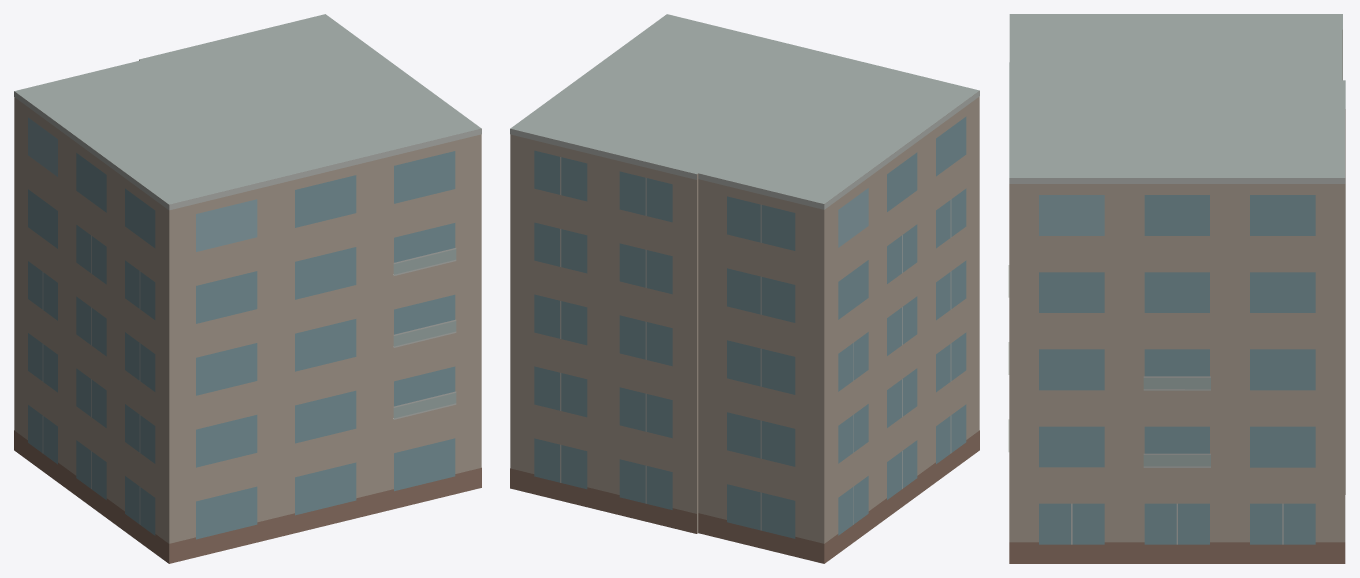
File: survey-upis-32872596.glb
3 renders of one model, left to right at view 1: azimuth 30°, elevation 25°; view 2: azimuth 150°, elevation 25°; view 3: azimuth 270°, elevation 25°, orthographic. The views are drawn at different scales.
Visible parts, largest first — view 1: survey-upis-32872596.tmp; view 2: survey-upis-32872596.tmp; view 3: survey-upis-32872596.tmp.
Part boxes in pixels (x1,y1,x2,y2): survey-upis-32872596.tmp: (14,14,481,563); survey-upis-32872596.tmp: (510,14,979,563); survey-upis-32872596.tmp: (1008,14,1345,563).
Size of the model in its own units: 13.94 by 15.25 by 12.09.
